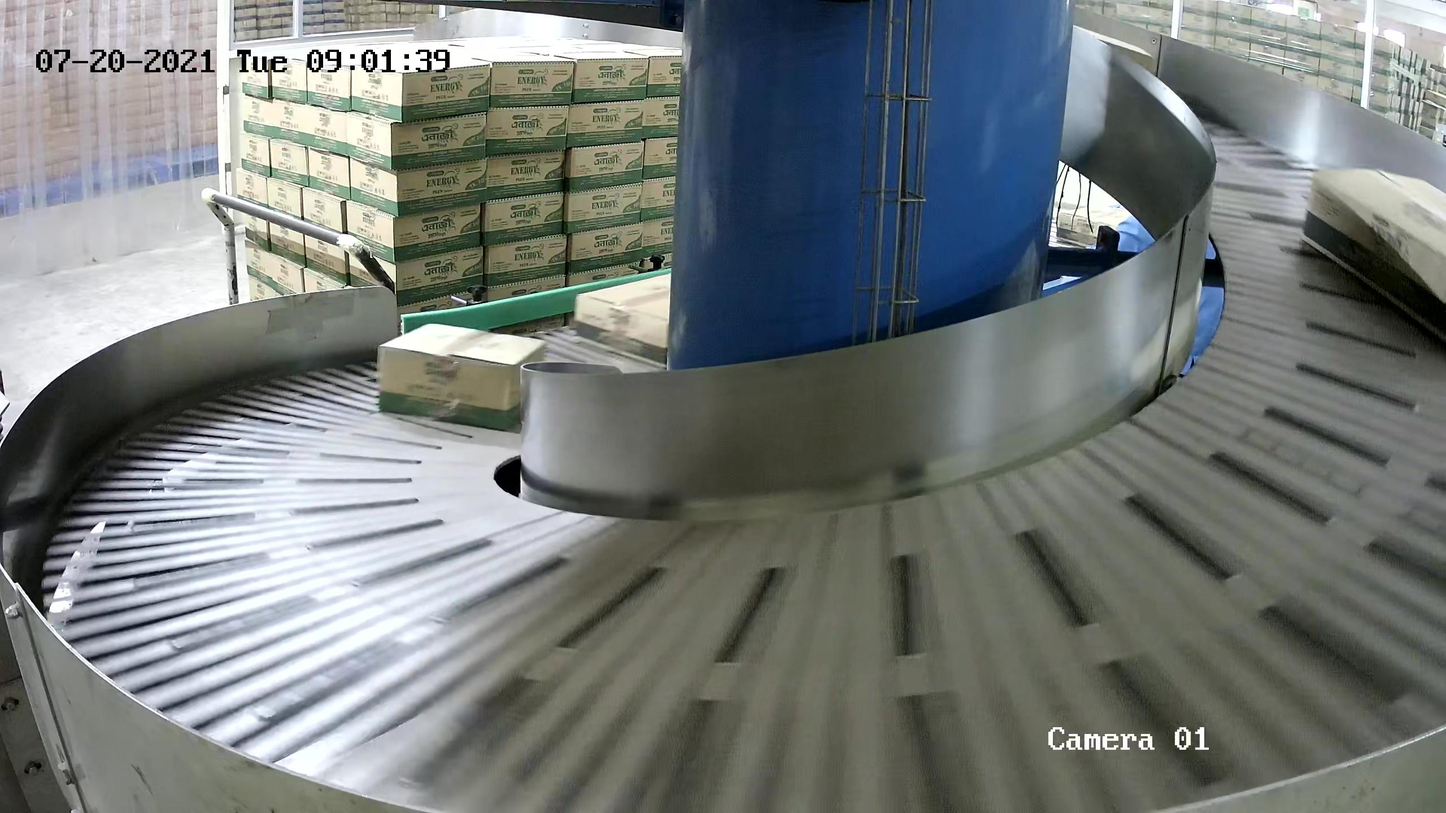Box: (1300, 164, 1446, 373), (574, 257, 760, 371), (376, 322, 548, 432)
